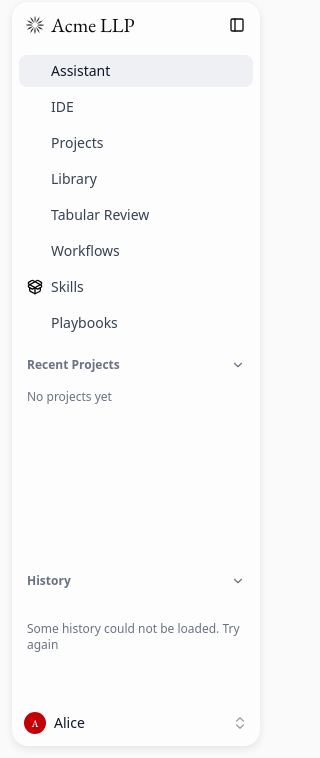
Test: AppSidebar workspace switcher › lists the workspaces in the account menu and marks the active one
Step 1. Click the button with aria-label "Account menu" → (136, 723), box [17,705,255,741]
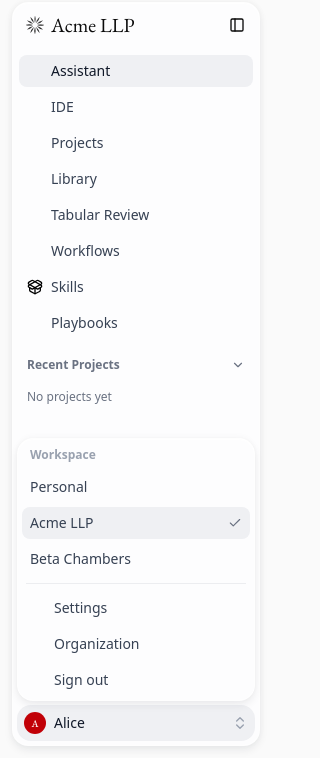
Now the menu item "Sign out" is shown, box [54,670,108,689]
